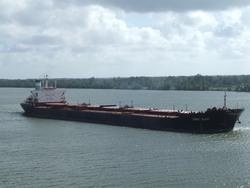Cargoship: (19, 73, 245, 134)
